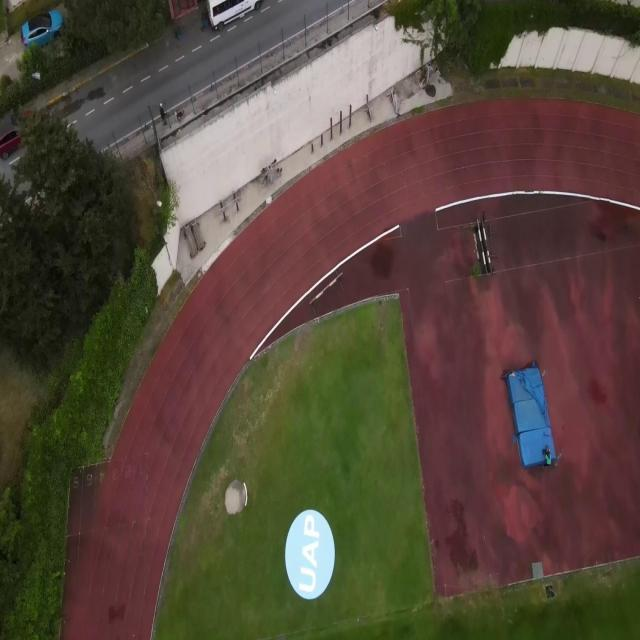p3rson: (159, 102, 168, 126), (542, 451, 551, 468)
